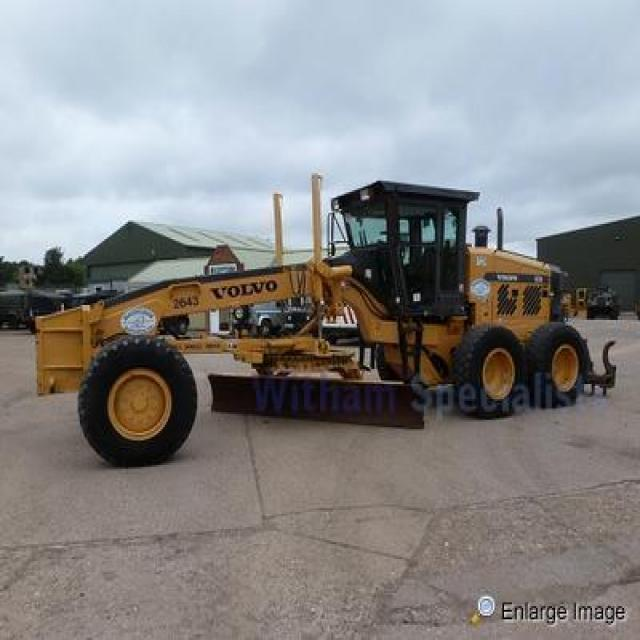Grader: (14, 134, 638, 466)
